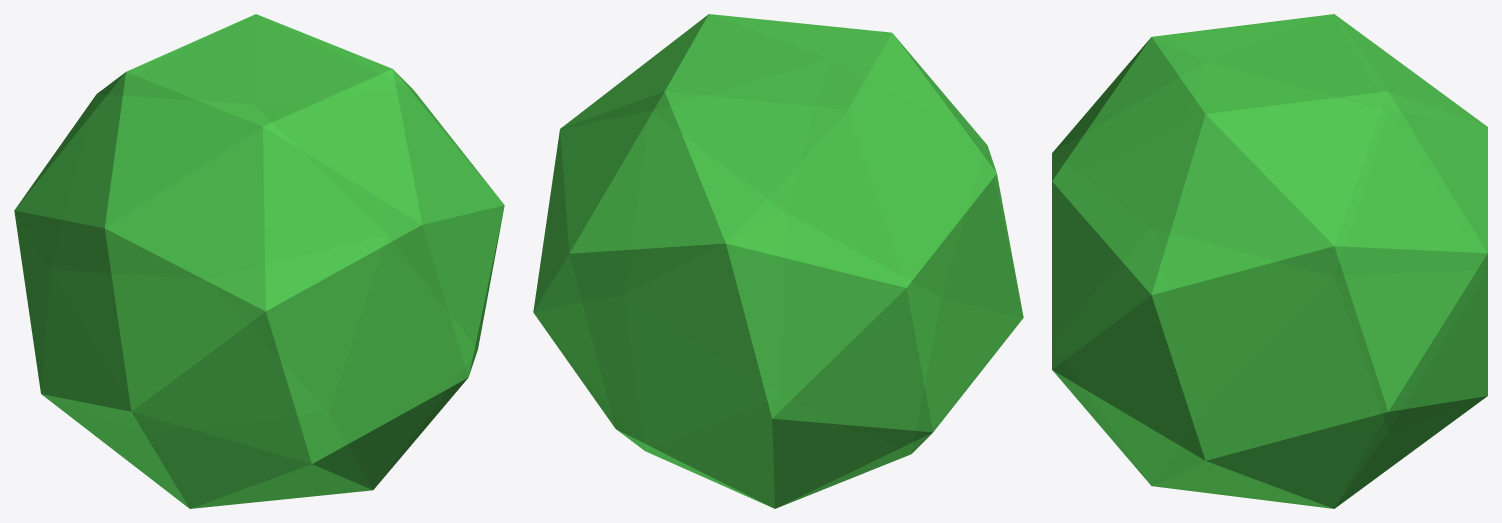
File: SnubCube.obj
3 renders of one model, left to right at view 1: azimuth 30°, elevation 25°; view 2: azimuth 150°, elevation 25°; view 3: azimuth 270°, elevation 25°, orthographic.
Size of the model in its own units: 2.29 by 2.29 by 2.29.
